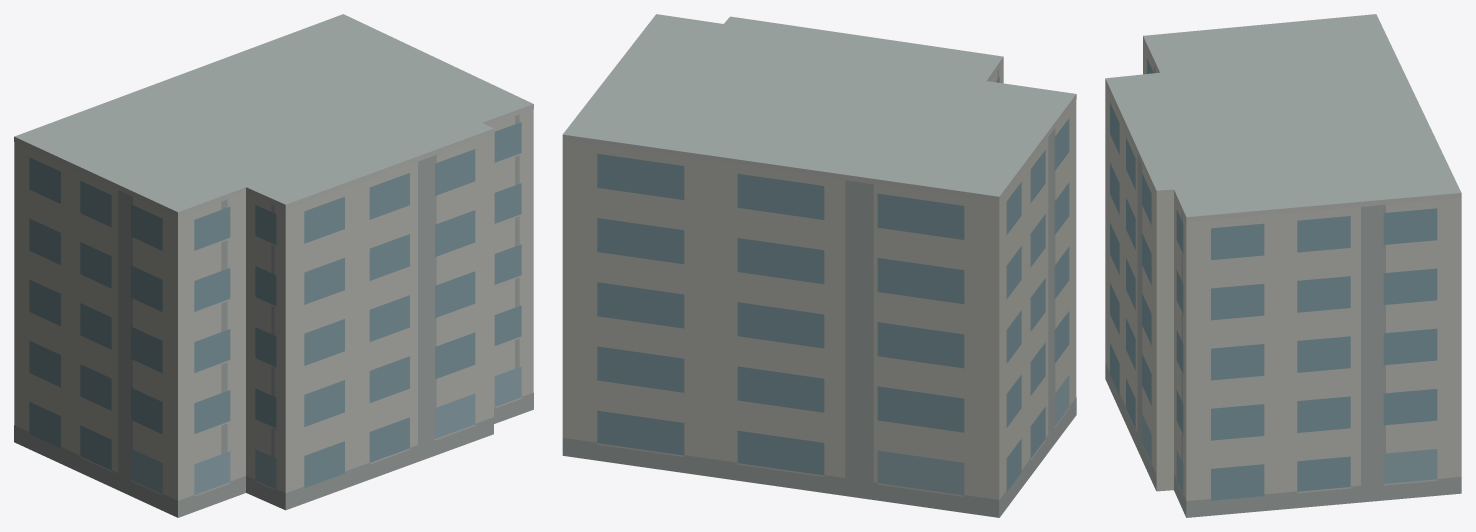
File: survey-upis-32630030.glb
3 renders of one model, left to right at view 1: azimuth 30°, elevation 25°; view 2: azimuth 150°, elevation 25°; view 3: azimuth 270°, elevation 25°, orthographic. The views are drawn at different scales.
Visible parts, largest first — view 1: survey-upis-32630030.tmp; view 2: survey-upis-32630030.tmp; view 3: survey-upis-32630030.tmp.
Part boxes in pixels (x1=…): survey-upis-32630030.tmp: x1=14, y1=14, x2=533, y2=517; survey-upis-32630030.tmp: x1=562, y1=14, x2=1076, y2=517; survey-upis-32630030.tmp: x1=1105, y1=14, x2=1461, y2=517.
Bounding box in the file's own units: 20.58 × 14.2 × 15.25.
